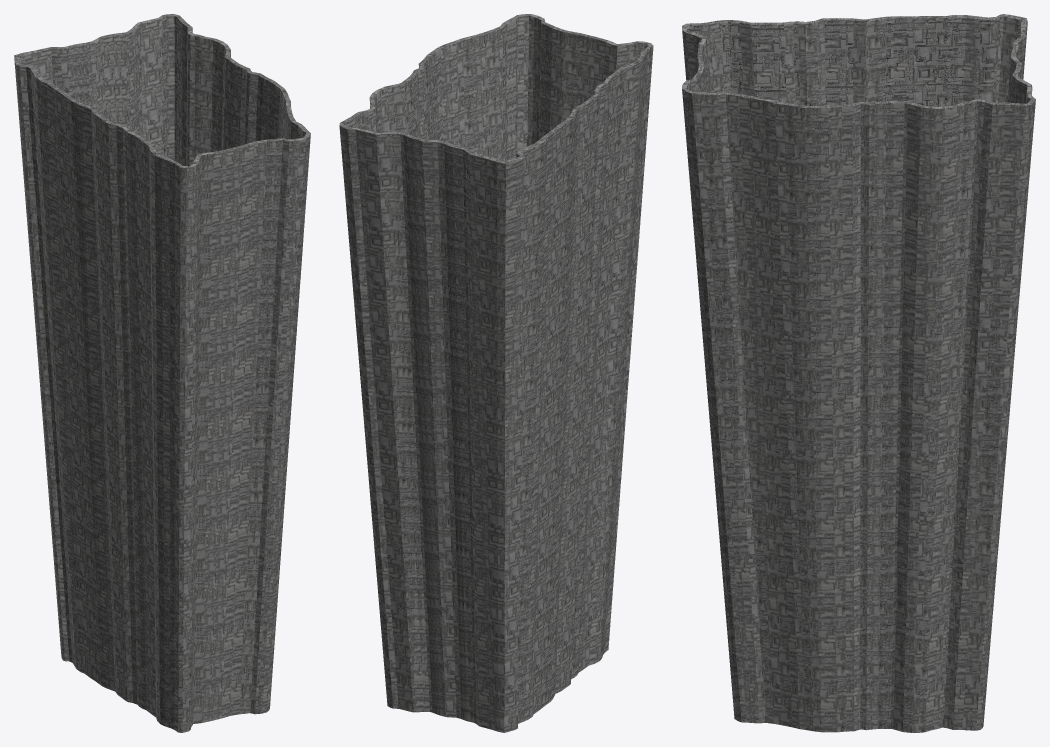
The model's file is Area4_Border.fbx.
3 views of the same model, side by side, from view 1: azimuth 30°, elevation 25°; view 2: azimuth 150°, elevation 25°; view 3: azimuth 270°, elevation 25° (orthographic). The views are drawn at different scales.
Parts seen in each view (by area): view 1: Area4_Border; view 2: Area4_Border; view 3: Area4_Border.
Boxes of the visible parts, left/top/right/bottom form: Area4_Border: left=14, top=14, right=310, bottom=732; Area4_Border: left=339, top=14, right=653, bottom=732; Area4_Border: left=682, top=14, right=1035, bottom=732.
Size of the model in its own units: 1672 by 5244 by 2636.
1 material, 1 textured.
